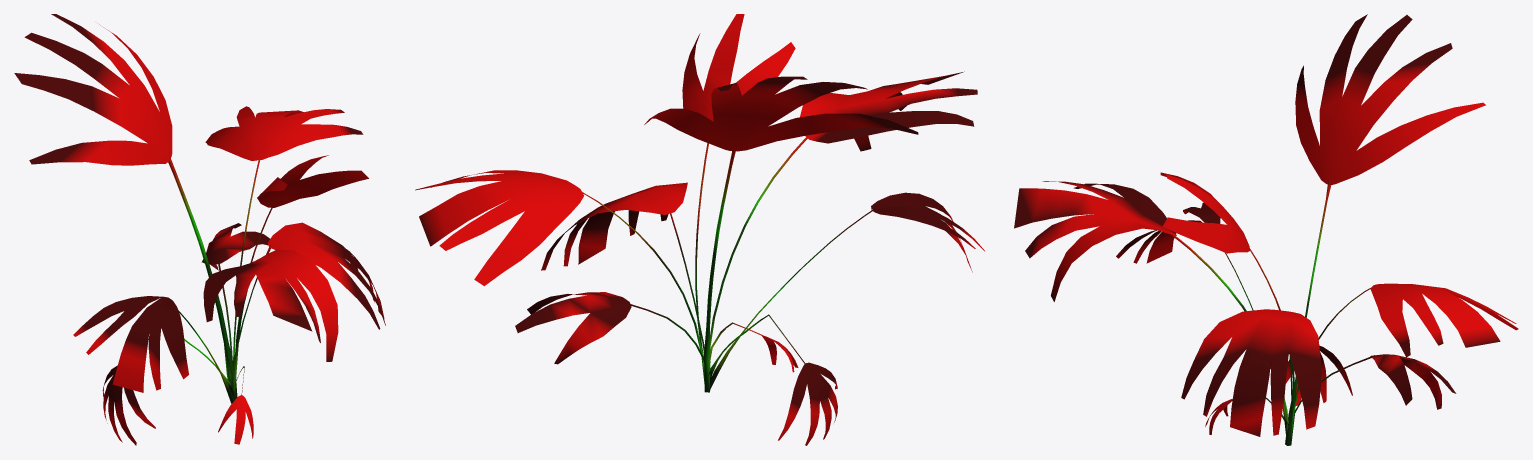
Rendered from Var1_LOD0.fbx.
3 views of the same model, side by side, from view 1: azimuth 30°, elevation 25°; view 2: azimuth 150°, elevation 25°; view 3: azimuth 270°, elevation 25° (orthographic). The views are drawn at different scales.
Parts seen in each view (by area): view 1: _6b59_Var1_LOD0; view 2: _6b59_Var1_LOD0; view 3: _6b59_Var1_LOD0.
Boxes of the visible parts, box(x1,y1,x2,y2) form: _6b59_Var1_LOD0: box(14, 14, 385, 445); _6b59_Var1_LOD0: box(415, 14, 984, 445); _6b59_Var1_LOD0: box(1014, 14, 1518, 445).
Size of the model in its own units: 109 by 101 by 124.
